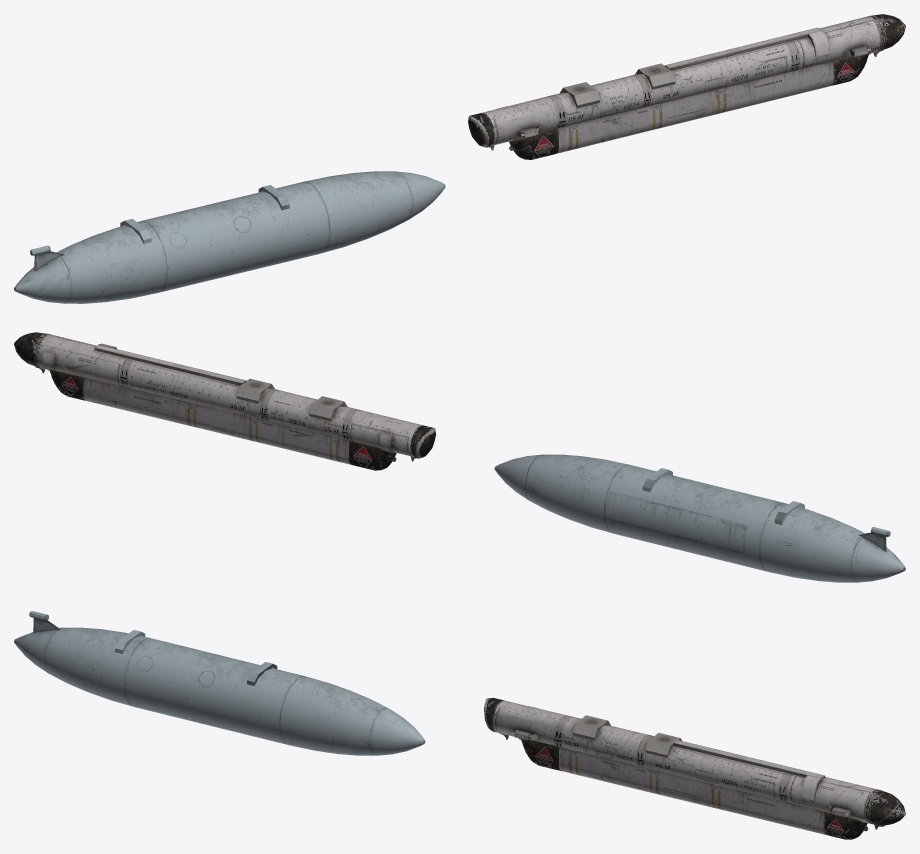
Rendered from Attachments.fbx.
3 renders of one model, top to bottom at view 1: azimuth 30°, elevation 25°; view 2: azimuth 150°, elevation 25°; view 3: azimuth 330°, elevation 25°, orthographic. The views are drawn at different scales.
Parts seen in each view (by area): view 1: Chassis.001; view 2: Chassis.001; view 3: Chassis.001.
Part boxes in pixels (box(x1,y1,x2,y2)): Chassis.001: box(14, 14, 905, 303); Chassis.001: box(14, 332, 905, 582); Chassis.001: box(14, 611, 905, 839).
Bounding box in the file's own units: 884 × 73.91 × 83.06.
